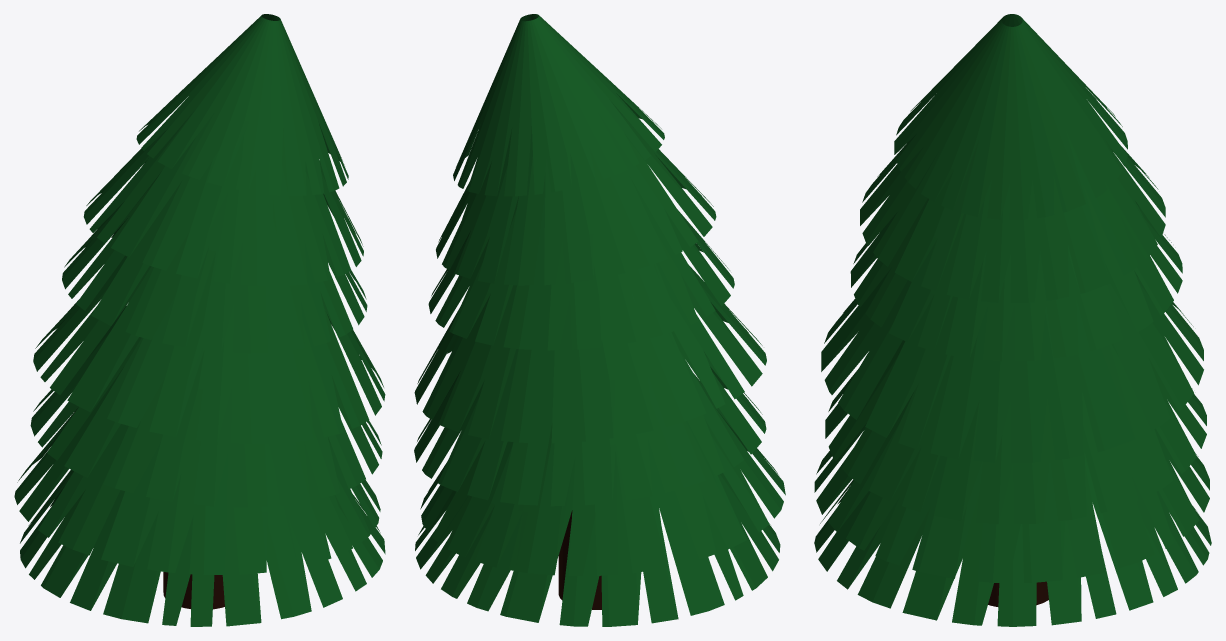
The model's file is tree2.obj.
3 renders of one model, left to right at view 1: azimuth 30°, elevation 25°; view 2: azimuth 150°, elevation 25°; view 3: azimuth 270°, elevation 25°, orthographic. The views are drawn at different scales.
Parts seen in each view (by area): view 1: Cone.002; view 2: Cone.002; view 3: Cone.002.
Part boxes in pixels (x1,y1,x2,y2): Cone.002: [14, 14, 385, 626]; Cone.002: [414, 14, 785, 626]; Cone.002: [814, 14, 1211, 626].
Size of the model in its own units: 7.27 by 12.12 by 7.18.
